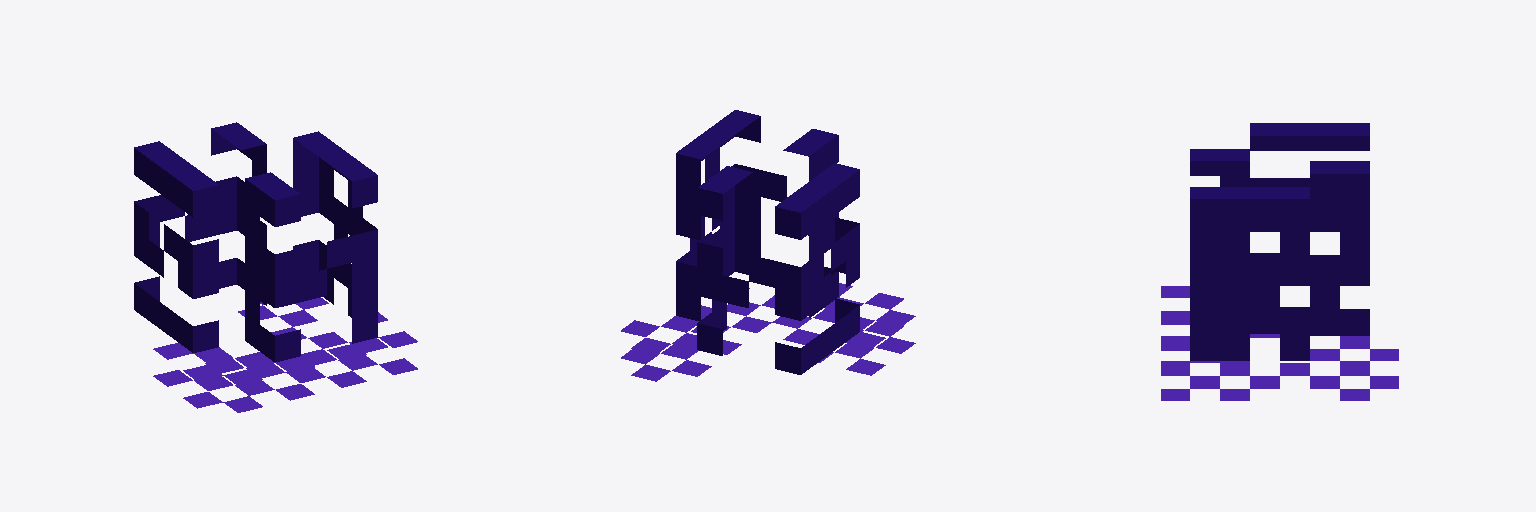
3 renders of one model, left to right at view 1: azimuth 30°, elevation 25°; view 2: azimuth 150°, elevation 25°; view 3: azimuth 270°, elevation 25°, orthographic.
Parts seen in each view (by area): view 1: HC_Commerce_Bank_Neutral; view 2: HC_Commerce_Bank_Neutral; view 3: HC_Commerce_Bank_Neutral.
Part boxes in pixels (x1,y1,x2,y2): HC_Commerce_Bank_Neutral: (134,122,417,412); HC_Commerce_Bank_Neutral: (621,110,915,381); HC_Commerce_Bank_Neutral: (1161,123,1398,400).
Size of the model in its own units: 10 by 7 by 10.
Materials: 1 (1 with a texture image).